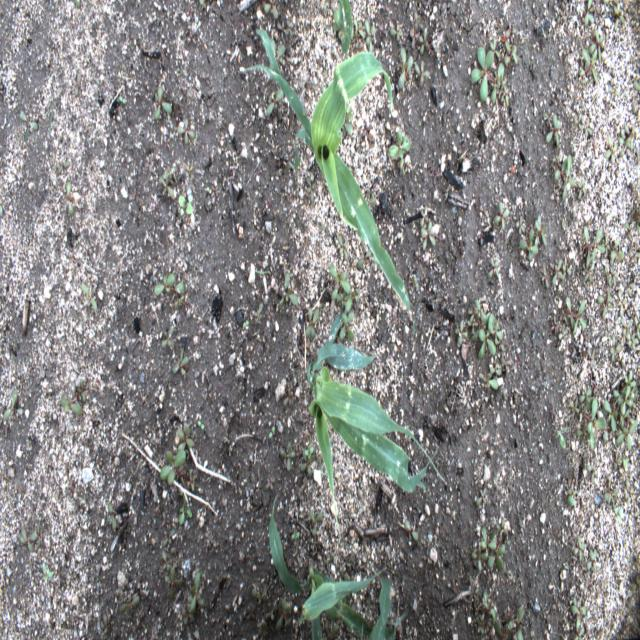crop: (243, 28, 415, 336), (306, 306, 445, 538), (269, 494, 408, 640), (338, 0, 352, 56)
weed: (470, 45, 510, 106), (467, 308, 496, 359), (579, 396, 606, 450), (550, 153, 575, 202), (160, 448, 192, 486), (579, 225, 606, 269), (387, 128, 412, 175), (615, 409, 639, 451), (328, 262, 352, 303), (273, 272, 298, 311), (562, 296, 586, 336), (526, 213, 548, 250), (487, 530, 506, 572), (2, 388, 24, 424), (188, 570, 206, 614), (420, 219, 444, 252), (266, 37, 287, 74), (474, 590, 496, 625), (154, 271, 186, 295), (164, 563, 184, 601), (60, 381, 82, 415), (332, 6, 354, 40), (397, 47, 414, 91), (518, 228, 540, 261), (18, 108, 38, 144), (152, 85, 172, 121), (170, 346, 190, 381), (274, 598, 294, 632), (580, 48, 598, 84), (479, 524, 497, 559), (303, 306, 320, 342), (470, 542, 490, 572), (338, 308, 355, 343), (176, 117, 197, 145), (545, 113, 562, 147), (587, 28, 604, 62), (508, 604, 524, 640), (603, 474, 619, 510), (602, 399, 619, 432), (177, 423, 194, 455), (493, 200, 510, 232), (299, 448, 317, 478), (266, 86, 284, 116), (503, 38, 520, 69), (608, 236, 625, 266), (333, 112, 355, 135), (179, 488, 192, 526), (355, 247, 374, 273), (80, 282, 97, 311), (364, 16, 376, 57), (598, 287, 613, 319), (62, 181, 75, 217), (20, 526, 38, 552), (178, 187, 194, 216), (344, 287, 360, 315), (119, 593, 141, 613), (309, 510, 324, 539), (413, 60, 430, 85), (604, 134, 618, 164), (160, 323, 176, 349), (487, 319, 503, 345), (550, 425, 567, 449), (475, 298, 489, 327), (550, 258, 564, 287), (612, 4, 626, 33), (158, 174, 174, 199), (322, 617, 340, 639), (454, 318, 468, 346), (623, 122, 636, 152), (70, 71, 84, 98), (573, 535, 586, 564), (404, 518, 419, 543), (610, 334, 622, 365), (576, 421, 592, 444), (305, 174, 317, 204), (418, 27, 430, 57), (493, 620, 511, 640), (251, 586, 268, 607), (621, 383, 632, 415), (181, 602, 195, 626), (263, 0, 279, 21), (338, 234, 350, 262), (583, 0, 595, 28), (620, 313, 632, 341), (487, 255, 500, 280), (585, 548, 598, 573), (342, 574, 354, 601), (408, 22, 420, 49), (482, 371, 499, 390), (621, 276, 637, 296), (252, 300, 264, 326), (586, 458, 598, 484), (264, 600, 278, 622), (580, 116, 594, 138), (621, 378, 635, 400), (489, 36, 501, 61), (616, 290, 627, 317), (107, 500, 117, 529), (160, 550, 173, 572), (624, 478, 635, 504), (576, 176, 587, 202), (362, 188, 376, 208), (572, 596, 580, 631), (49, 92, 55, 138), (568, 396, 580, 419), (561, 256, 572, 281), (608, 262, 619, 287), (162, 527, 175, 548), (336, 290, 353, 306), (55, 158, 70, 176), (276, 19, 289, 39), (340, 102, 353, 122), (420, 202, 430, 228), (495, 517, 508, 537), (542, 109, 555, 129), (600, 235, 611, 258), (351, 28, 363, 49), (618, 128, 626, 159), (505, 20, 518, 39), (281, 387, 292, 409), (515, 214, 526, 236), (361, 120, 373, 140), (353, 18, 365, 38), (475, 487, 487, 507), (540, 264, 550, 288), (624, 368, 636, 388), (628, 331, 640, 351), (579, 386, 592, 404), (632, 204, 640, 233), (573, 110, 584, 131), (187, 469, 197, 492), (586, 346, 596, 369), (500, 353, 512, 372), (163, 164, 177, 180), (388, 24, 402, 40), (566, 492, 580, 508), (101, 613, 112, 633), (180, 475, 190, 497), (160, 508, 171, 528), (245, 602, 256, 622), (467, 314, 478, 334), (602, 429, 613, 449), (278, 445, 287, 469), (557, 324, 569, 342), (573, 622, 585, 640), (630, 574, 640, 595), (42, 562, 53, 581), (621, 456, 631, 476), (624, 220, 634, 240), (323, 551, 335, 567), (468, 586, 480, 602), (618, 136, 634, 148), (620, 410, 629, 431), (80, 379, 88, 402), (628, 388, 636, 411), (613, 389, 626, 403), (185, 161, 195, 179), (550, 315, 559, 335), (320, 67, 328, 89), (629, 248, 640, 264), (51, 150, 60, 169), (297, 300, 307, 317), (414, 12, 424, 29), (570, 605, 587, 615), (490, 362, 502, 376), (183, 446, 194, 461), (634, 314, 640, 341), (209, 183, 219, 199), (280, 449, 296, 459), (264, 305, 274, 321), (476, 615, 484, 635), (613, 452, 621, 472), (284, 19, 293, 36), (204, 382, 212, 401), (563, 46, 571, 65), (587, 264, 595, 283), (304, 444, 314, 459), (169, 349, 178, 365), (207, 534, 216, 550), (614, 507, 623, 523), (570, 449, 581, 462), (287, 443, 292, 471), (479, 205, 489, 219), (163, 135, 171, 152), (257, 621, 266, 636), (496, 336, 505, 351), (174, 296, 185, 308), (36, 522, 41, 548), (268, 424, 276, 440), (628, 208, 636, 224), (630, 383, 638, 399), (379, 24, 388, 38), (186, 3, 194, 18), (320, 224, 330, 236), (561, 1, 569, 16), (556, 9, 564, 24), (552, 600, 562, 612), (592, 387, 600, 402), (604, 32, 610, 52), (291, 529, 300, 542), (610, 67, 616, 86), (575, 3, 586, 13), (190, 417, 197, 432), (632, 79, 640, 92), (609, 87, 620, 96), (561, 309, 568, 323), (342, 534, 348, 550), (319, 302, 325, 318), (605, 266, 610, 285), (198, 418, 205, 431), (601, 269, 608, 282), (504, 531, 510, 546), (118, 94, 126, 105), (614, 298, 618, 320), (255, 270, 271, 275), (568, 488, 578, 496), (541, 27, 547, 39), (614, 425, 620, 437), (77, 387, 82, 401), (242, 319, 249, 329), (603, 0, 613, 7), (582, 262, 588, 273), (206, 186, 212, 196), (74, 0, 80, 9), (562, 561, 568, 570), (198, 0, 204, 7)
